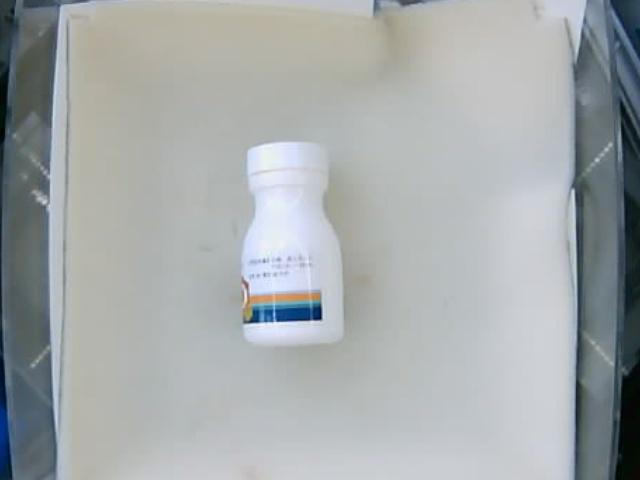Bottle: (240, 145, 345, 346)
